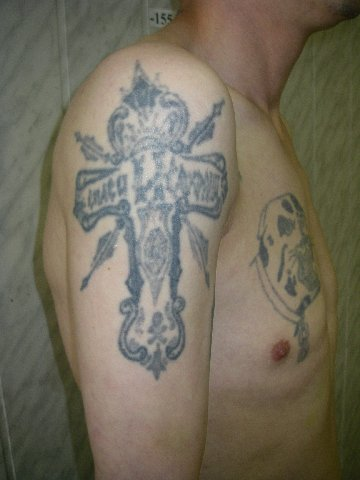tatu9_krest: (66, 66, 235, 386)
